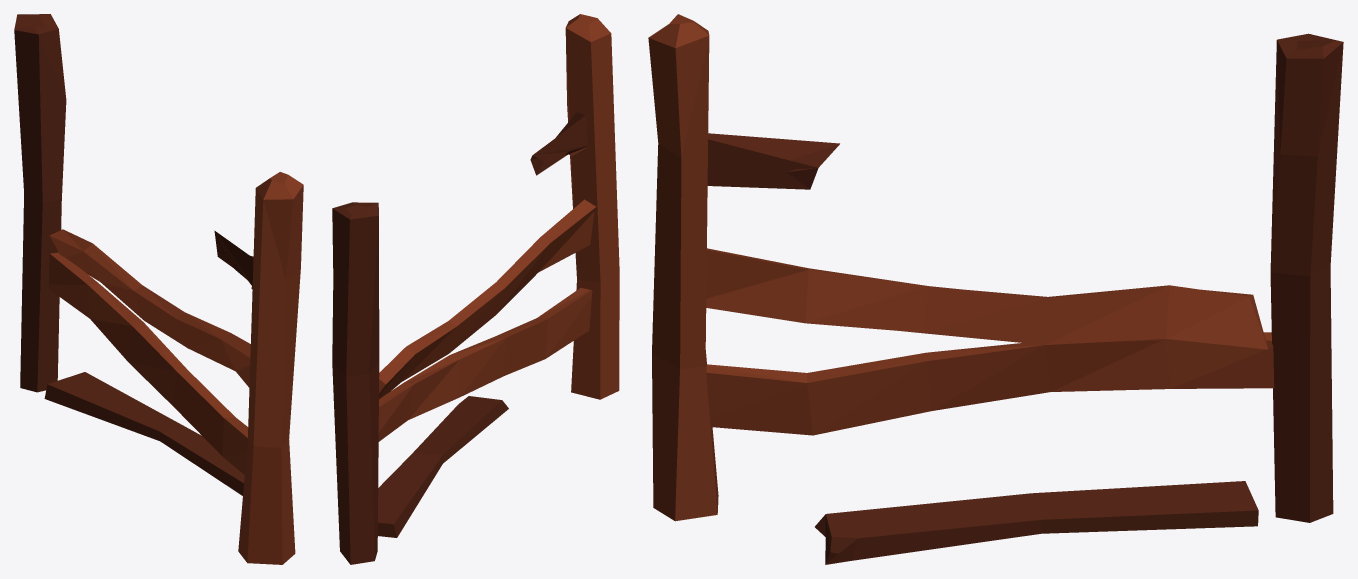
The model's file is FenceBroken_00.FBX.
3 views of the same model, side by side, from view 1: azimuth 30°, elevation 25°; view 2: azimuth 150°, elevation 25°; view 3: azimuth 270°, elevation 25° (orthographic). The views are drawn at different scales.
Parts seen in each view (by area): view 1: FenceEnd_003, FenceEnd_004, Fence_007, Fence_008, Fence_009, Fence_013; view 2: FenceEnd_004, FenceEnd_003, Fence_007, Fence_008, Fence_009, Fence_013; view 3: Fence_007, FenceEnd_004, Fence_008, FenceEnd_003, Fence_009, Fence_013.
Part boxes in pixels (left/top/right/bottom): FenceEnd_003: left=238, top=172, right=303, bottom=564; FenceEnd_004: left=14, top=14, right=66, bottom=392; Fence_007: left=49, top=252, right=248, bottom=474; Fence_008: left=49, top=229, right=250, bottom=387; Fence_009: left=44, top=372, right=244, bottom=495; Fence_013: left=214, top=230, right=253, bottom=289; FenceEnd_004: left=332, top=202, right=379, bottom=564; FenceEnd_003: left=565, top=14, right=619, bottom=399; Fence_007: left=378, top=288, right=592, bottom=441; Fence_008: left=379, top=199, right=595, bottom=399; Fence_009: left=378, top=396, right=508, bottom=537; Fence_013: left=530, top=112, right=587, bottom=175; Fence_007: left=706, top=332, right=1274, bottom=435; FenceEnd_004: left=1270, top=33, right=1343, bottom=522; Fence_008: left=706, top=248, right=1268, bottom=349; FenceEnd_003: left=648, top=14, right=718, bottom=521; Fence_009: left=815, top=481, right=1258, bottom=564; Fence_013: left=707, top=133, right=839, bottom=189.
Bounding box in the file's own units: 2.52 × 9.13 × 11.43.
